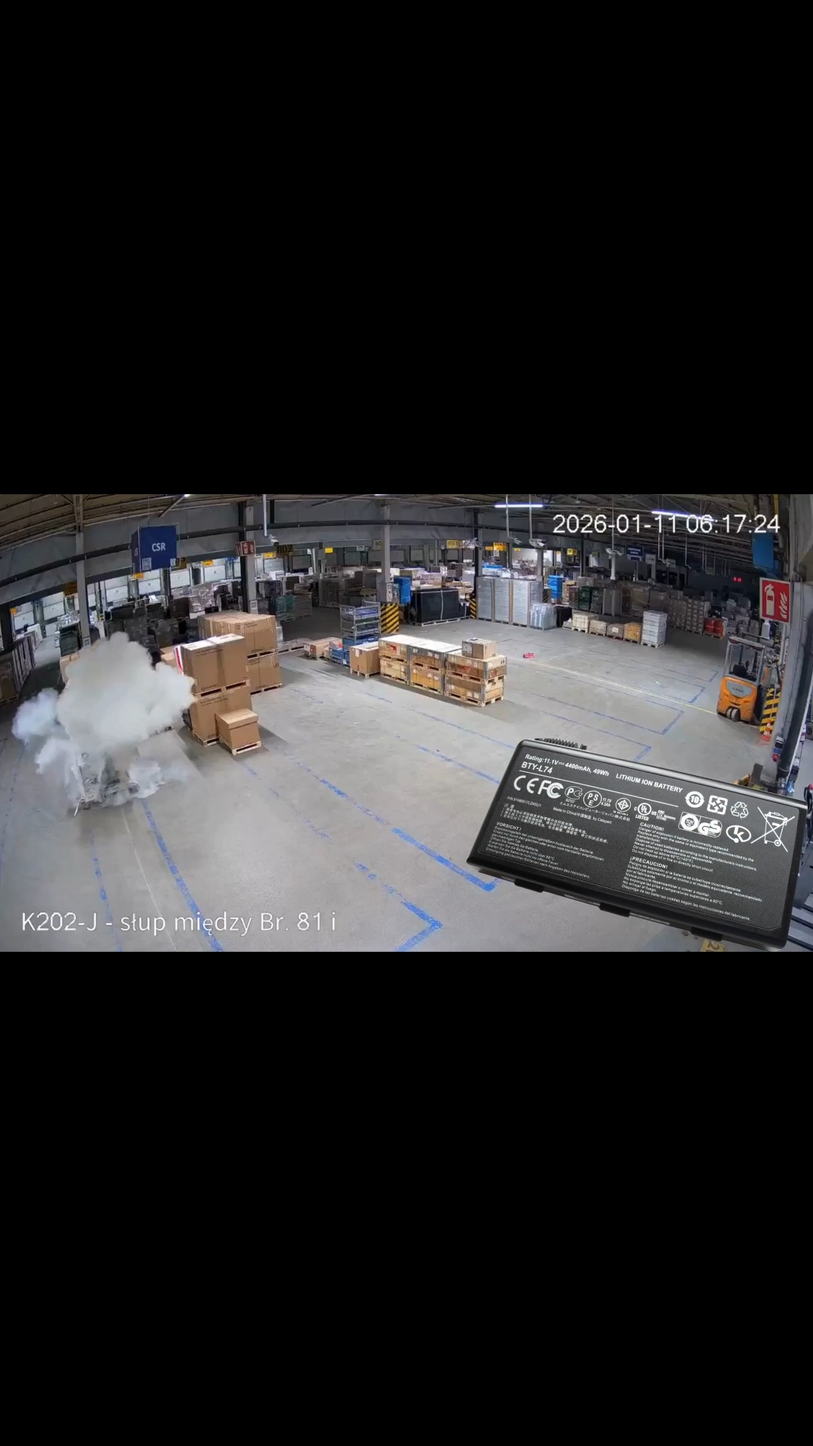smoke: (11, 630, 196, 814)
